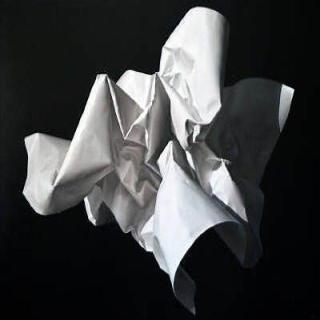Anorganik: (19, 5, 295, 314)
